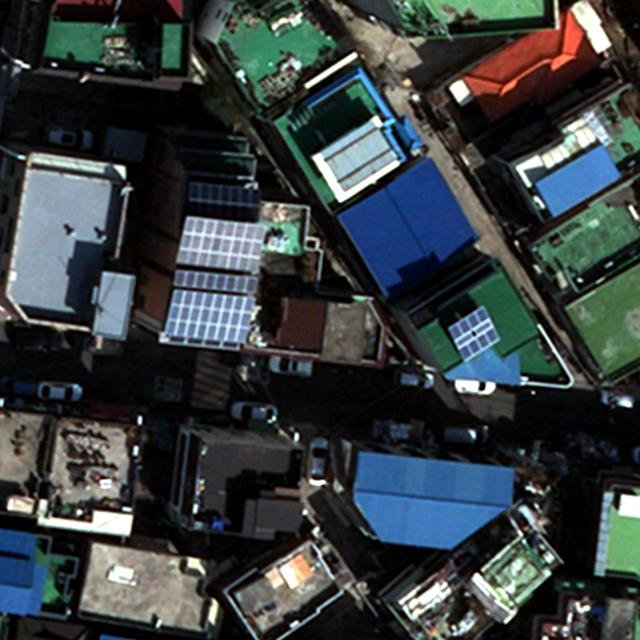panel: (175, 213, 269, 276), (164, 289, 257, 344), (447, 305, 505, 362), (170, 266, 265, 297), (186, 179, 266, 212)
